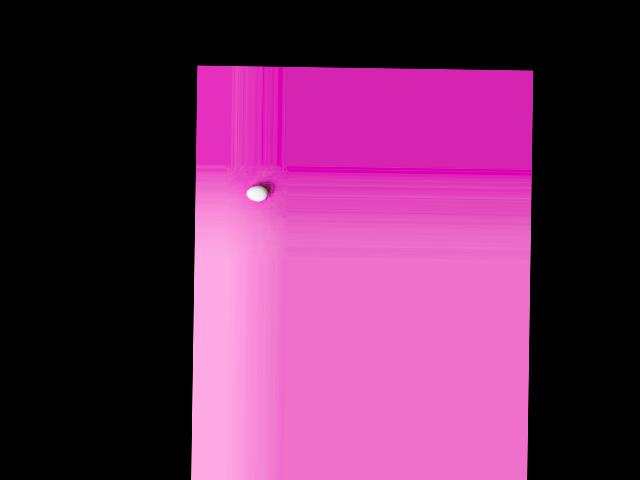egg: (246, 186, 267, 201)
